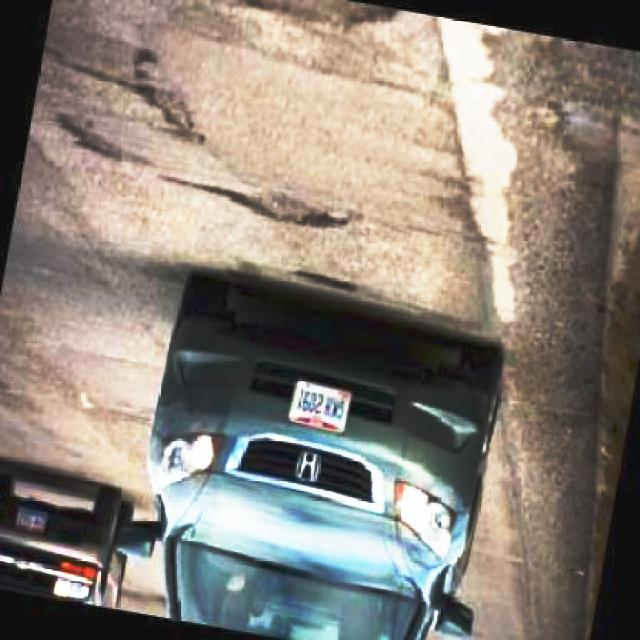pothole: (134, 46, 198, 143), (220, 185, 351, 232), (55, 114, 138, 166), (242, 0, 406, 26)
